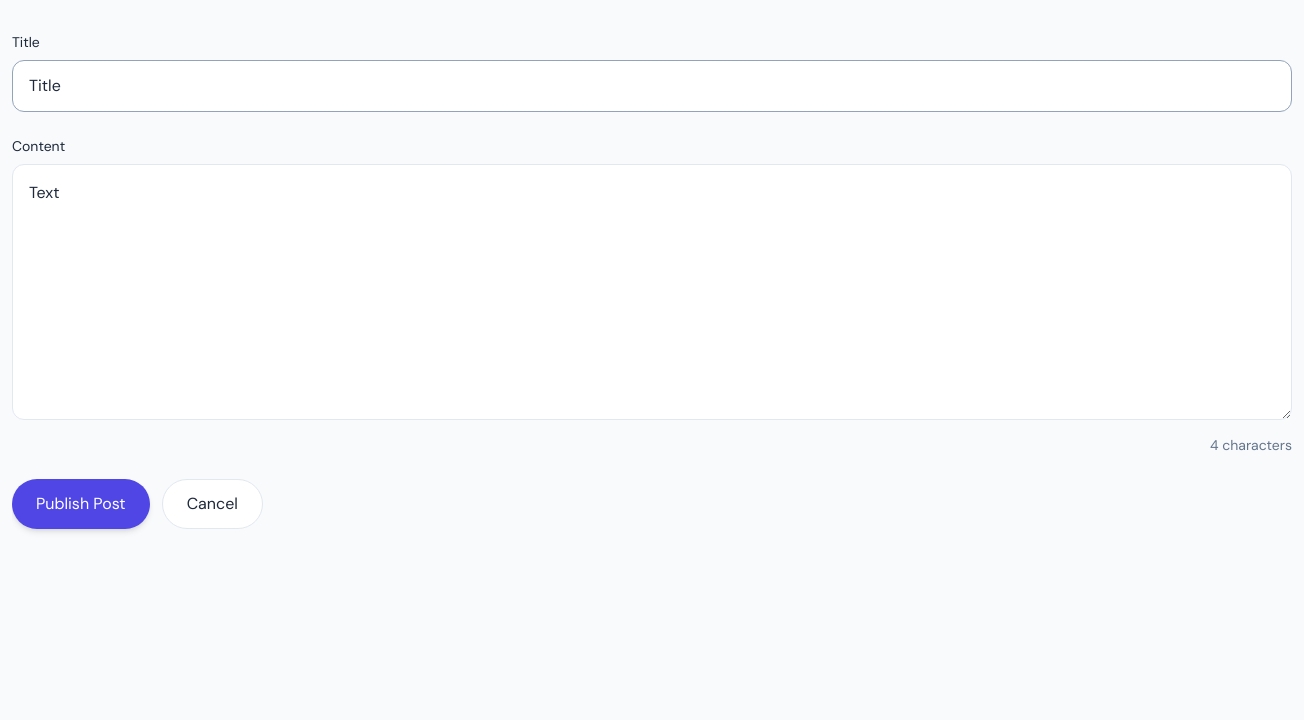
Test case: keeps draft on real storage failure then clears feedback on successful retry
Click the button "Publish Post" at (81, 504), box [12,479,150,529]
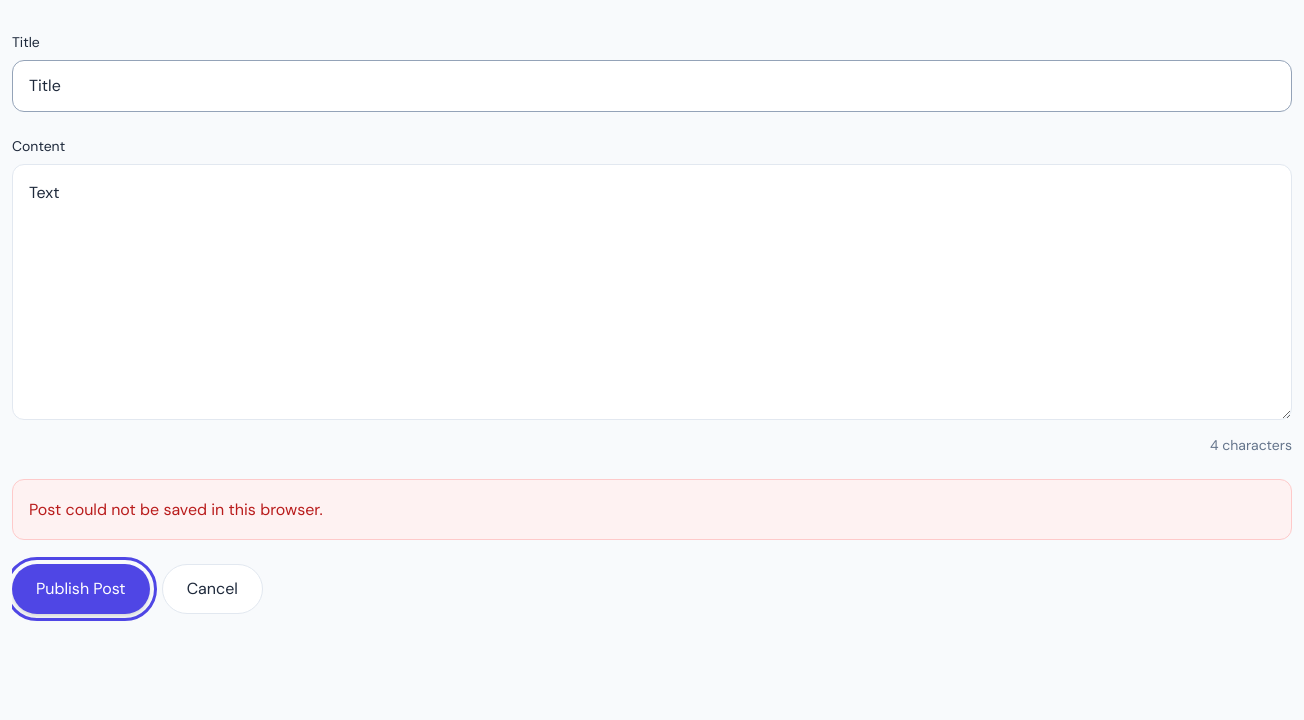
Expected: the field labelled "Title" holds "Title", [12,60,1292,112]
Result: the message reads "Post could not be saved in this browser." at [29,499,323,520]
Click the button "Publish Post" at (81, 589), box [12,564,150,614]
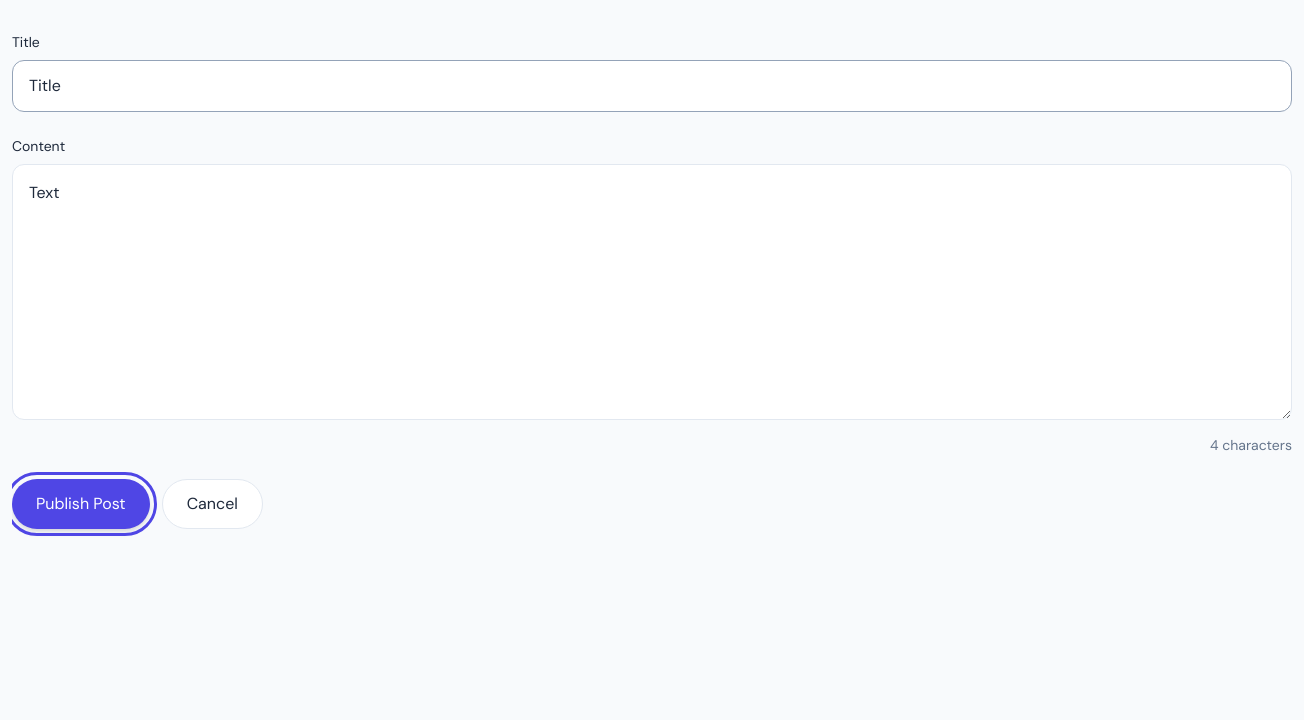
Result: the message "Post could not be saved in this browser." is gone
